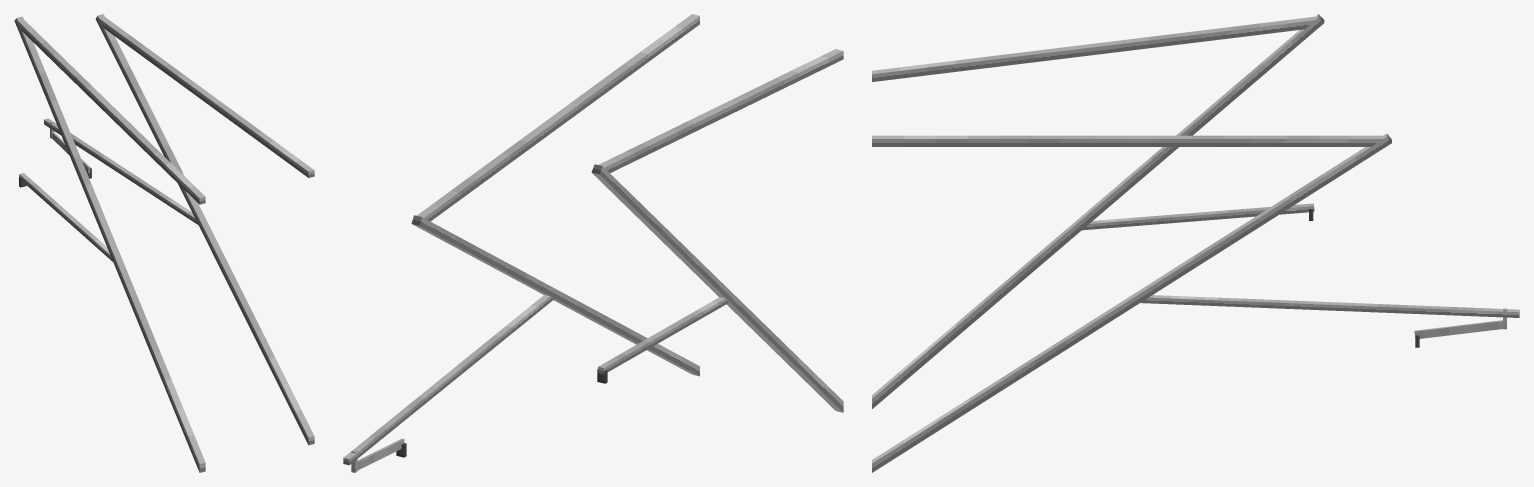
The model's file is cantilever_outer_8px.obj.
The picture shows the model from 3 angles, left to right: view 1: azimuth 30°, elevation 25°; view 2: azimuth 150°, elevation 25°; view 3: azimuth 270°, elevation 25°; orthographic projection. The views are drawn at different scales.
Visible parts, largest first — view 1: 69583c3e-6d47-4c0e-8530-7966b23f7464, 48392d99-bf31-43a0-9556-6a507c7eda96, c3d1ec1c-7148-4d1a-aa54-584b8022d82e, 0b9bbaea-785a-45cf-a70a-ebdc22ba8fdb, 9c24d85b-95ff-487c-9a30-7a8c9b34fdb5, 76891208-7f22-4932-b23b-c556e71561f7; view 2: c3d1ec1c-7148-4d1a-aa54-584b8022d82e, 69583c3e-6d47-4c0e-8530-7966b23f7464, 48392d99-bf31-43a0-9556-6a507c7eda96, 0b9bbaea-785a-45cf-a70a-ebdc22ba8fdb, 9c24d85b-95ff-487c-9a30-7a8c9b34fdb5, 76891208-7f22-4932-b23b-c556e71561f7; view 3: 48392d99-bf31-43a0-9556-6a507c7eda96, 69583c3e-6d47-4c0e-8530-7966b23f7464, c3d1ec1c-7148-4d1a-aa54-584b8022d82e, 0b9bbaea-785a-45cf-a70a-ebdc22ba8fdb, 9c24d85b-95ff-487c-9a30-7a8c9b34fdb5, 76891208-7f22-4932-b23b-c556e71561f7, 9edcdb1f-346e-4769-8ac8-af03af81f61a.
Part boxes in pixels (x1,y1,x2,y2): 69583c3e-6d47-4c0e-8530-7966b23f7464: (14,16,205,472); 48392d99-bf31-43a0-9556-6a507c7eda96: (95,14,314,445); c3d1ec1c-7148-4d1a-aa54-584b8022d82e: (99,17,314,177); 0b9bbaea-785a-45cf-a70a-ebdc22ba8fdb: (18,19,205,204); 9c24d85b-95ff-487c-9a30-7a8c9b34fdb5: (44,118,198,224); 76891208-7f22-4932-b23b-c556e71561f7: (19,173,112,261); c3d1ec1c-7148-4d1a-aa54-584b8022d82e: (417,14,699,221); 69583c3e-6d47-4c0e-8530-7966b23f7464: (591,164,843,412); 48392d99-bf31-43a0-9556-6a507c7eda96: (411,215,699,376); 0b9bbaea-785a-45cf-a70a-ebdc22ba8fdb: (598,49,843,172); 9c24d85b-95ff-487c-9a30-7a8c9b34fdb5: (343,295,554,465); 76891208-7f22-4932-b23b-c556e71561f7: (598,297,729,374); 48392d99-bf31-43a0-9556-6a507c7eda96: (872,133,1391,472); 69583c3e-6d47-4c0e-8530-7966b23f7464: (872,14,1324,408); c3d1ec1c-7148-4d1a-aa54-584b8022d82e: (872,135,1383,146); 0b9bbaea-785a-45cf-a70a-ebdc22ba8fdb: (872,16,1315,81); 9c24d85b-95ff-487c-9a30-7a8c9b34fdb5: (1140,295,1519,317); 76891208-7f22-4932-b23b-c556e71561f7: (1082,203,1314,230); 9edcdb1f-346e-4769-8ac8-af03af81f61a: (1414,320,1502,338).
Size of the model in its own units: 1.19 by 3.17 by 4.75.
